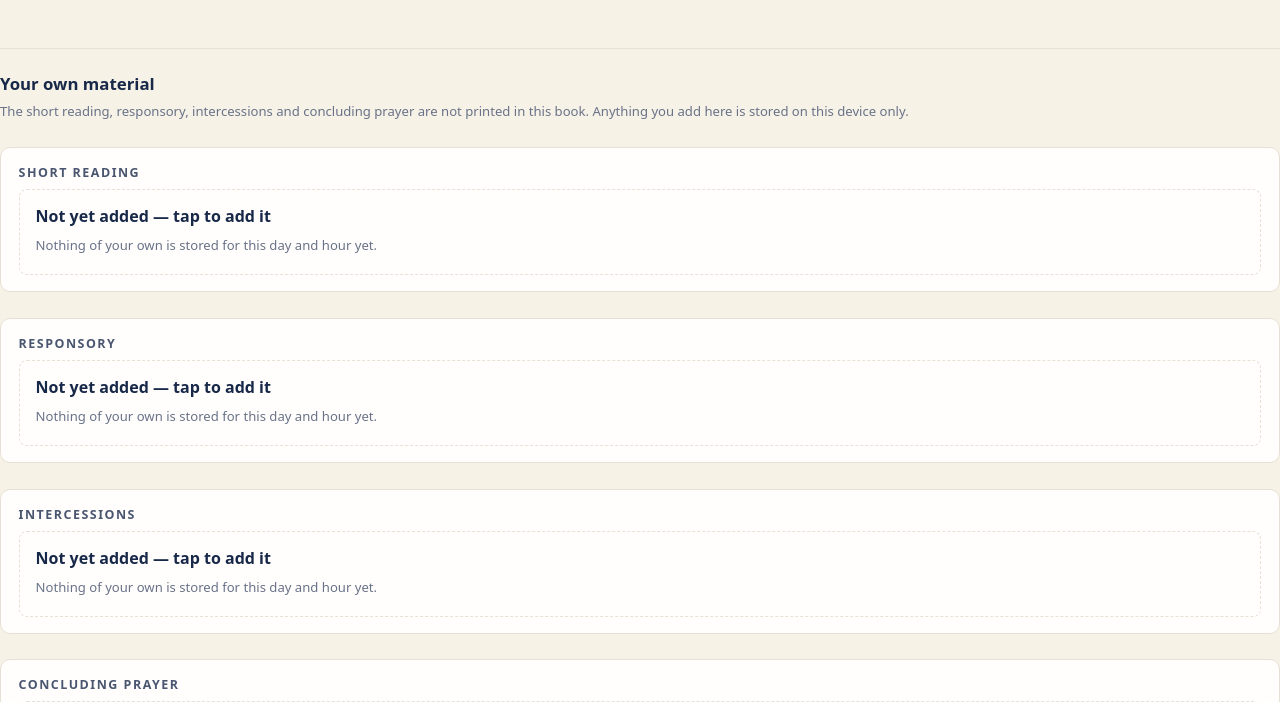
Scenario: 2: each section can be added and appears at once › intercessions
Step 1. Click the button with aria-label "Add the intercessions" → click(153, 558), box x1=19 y1=531 x2=1261 y2=617
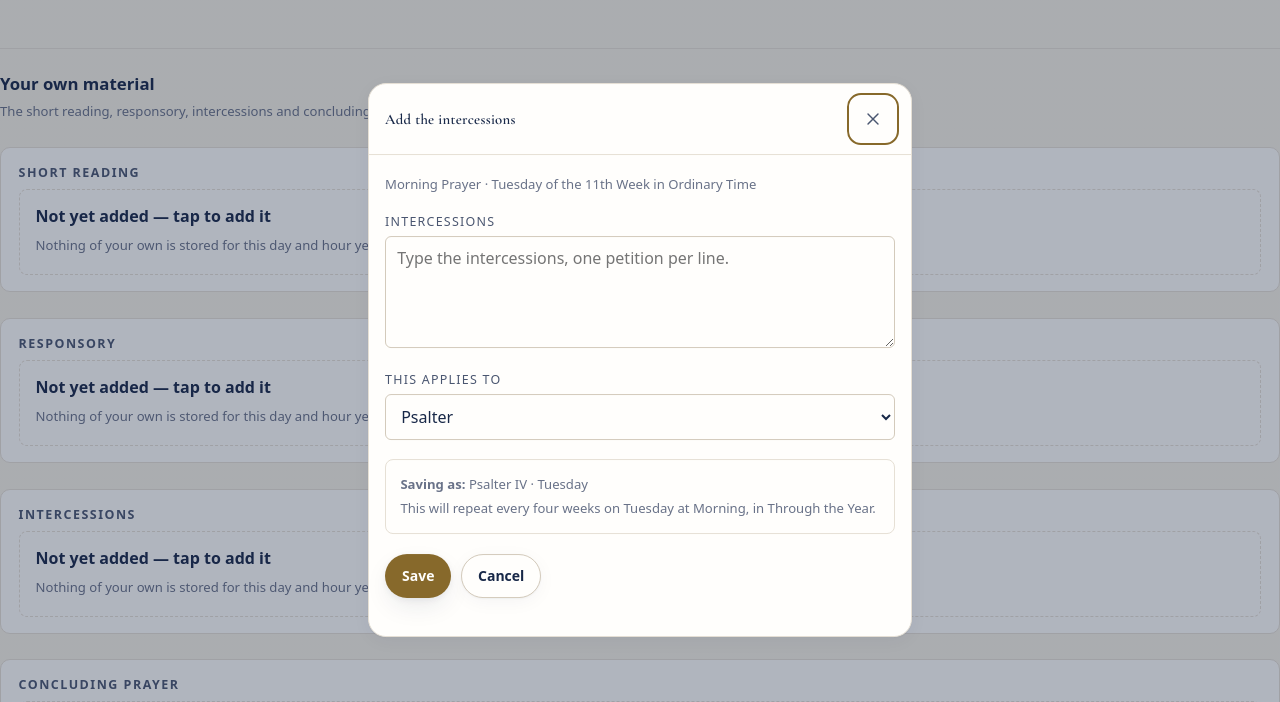
Step 2. Type "For the Church: Lord, hear us." into the text box labelled "Intercessions" → (640, 292), box x1=385 y1=236 x2=895 y2=348
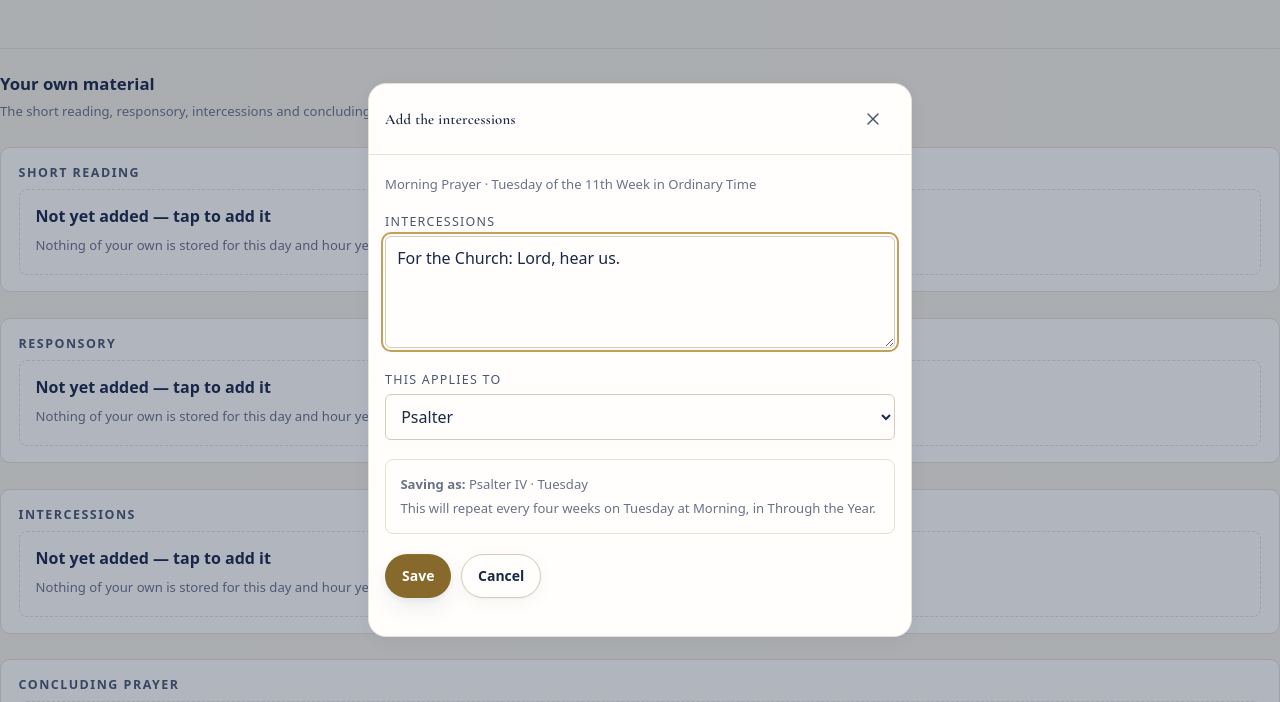
Step 3. Click the button "Save" → click(418, 576), box x1=385 y1=554 x2=451 y2=598
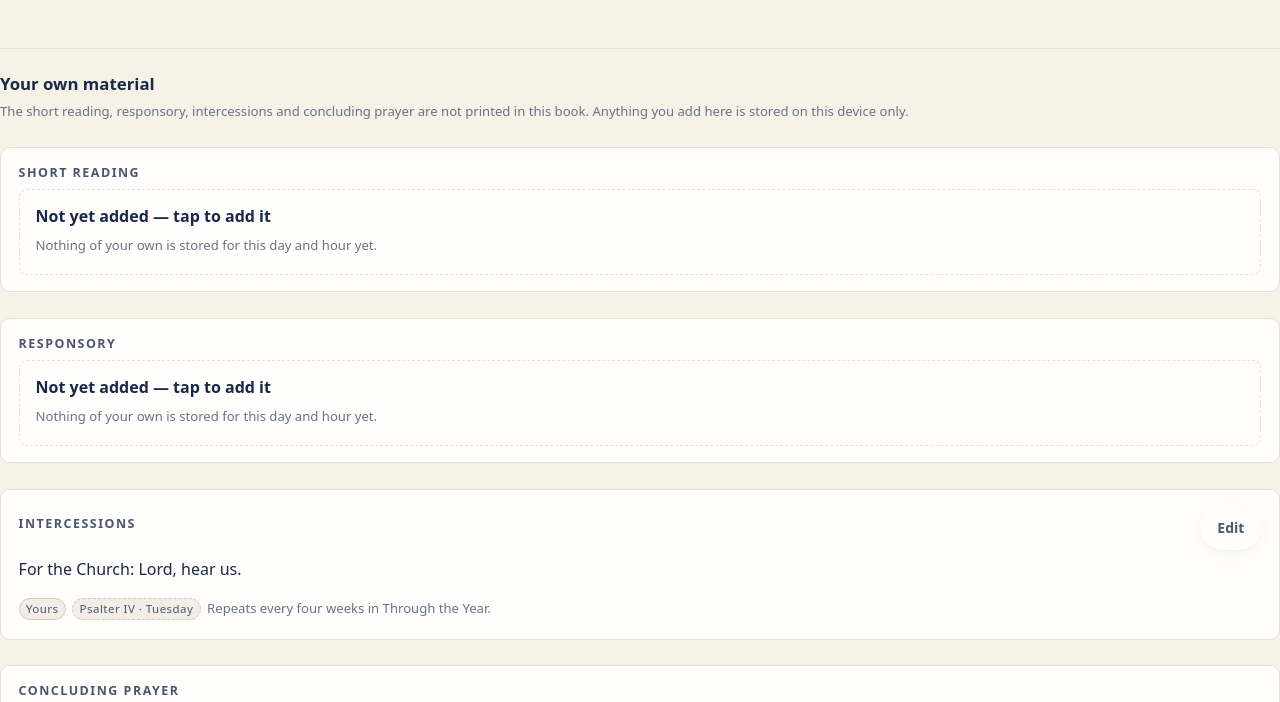
Result: the text "For the Church: Lord, hear us." is shown at x1=19 y1=558 x2=242 y2=580
Result: the button with aria-label "Edit the intercessions" is shown at x1=1200 y1=506 x2=1261 y2=550
